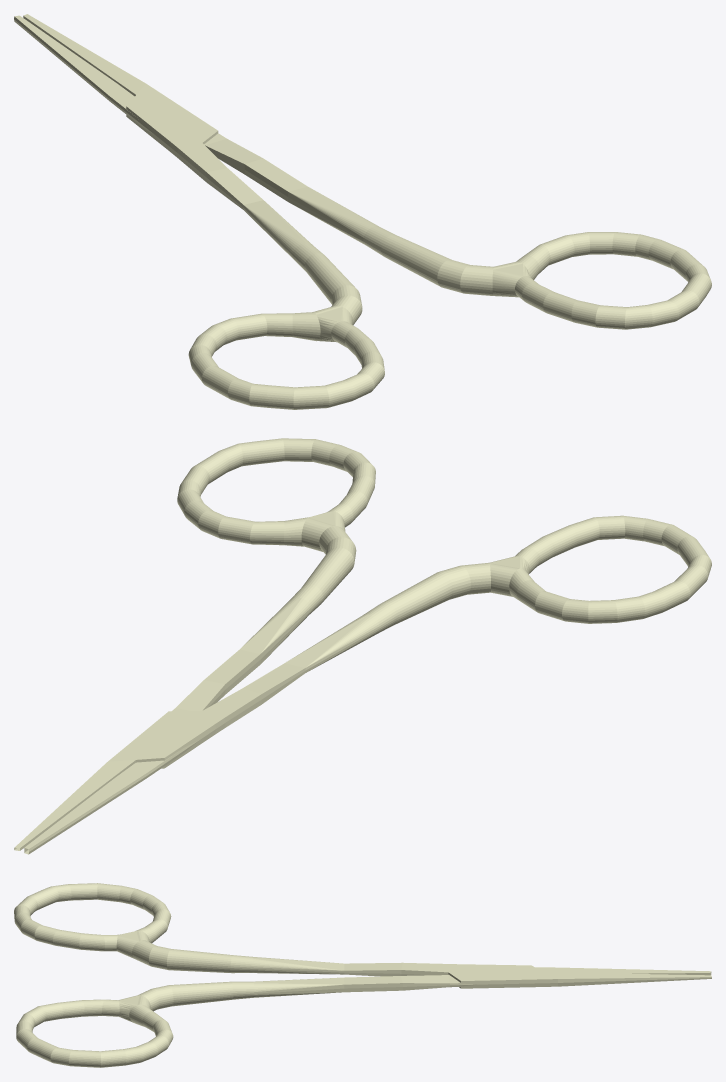
File: TangKnuthallareRapp.fbx
The picture shows the model from 3 angles, top to bottom: view 1: azimuth 30°, elevation 25°; view 2: azimuth 150°, elevation 25°; view 3: azimuth 270°, elevation 25°; orthographic projection. The views are drawn at different scales.
Visible parts, largest first — view 1: Cylinder, Cylinder.001; view 2: Cylinder, Cylinder.001; view 3: Cylinder, Cylinder.001.
Boxes of the visible parts, x1,y1,x2,y2 form: Cylinder: (23,14,384,409); Cylinder.001: (14,15,711,329); Cylinder: (14,515,711,850); Cylinder.001: (24,438,375,854); Cylinder: (14,883,711,988); Cylinder.001: (16,967,711,1067).
Bounding box in the file's own units: 115 × 6.68 × 193.
